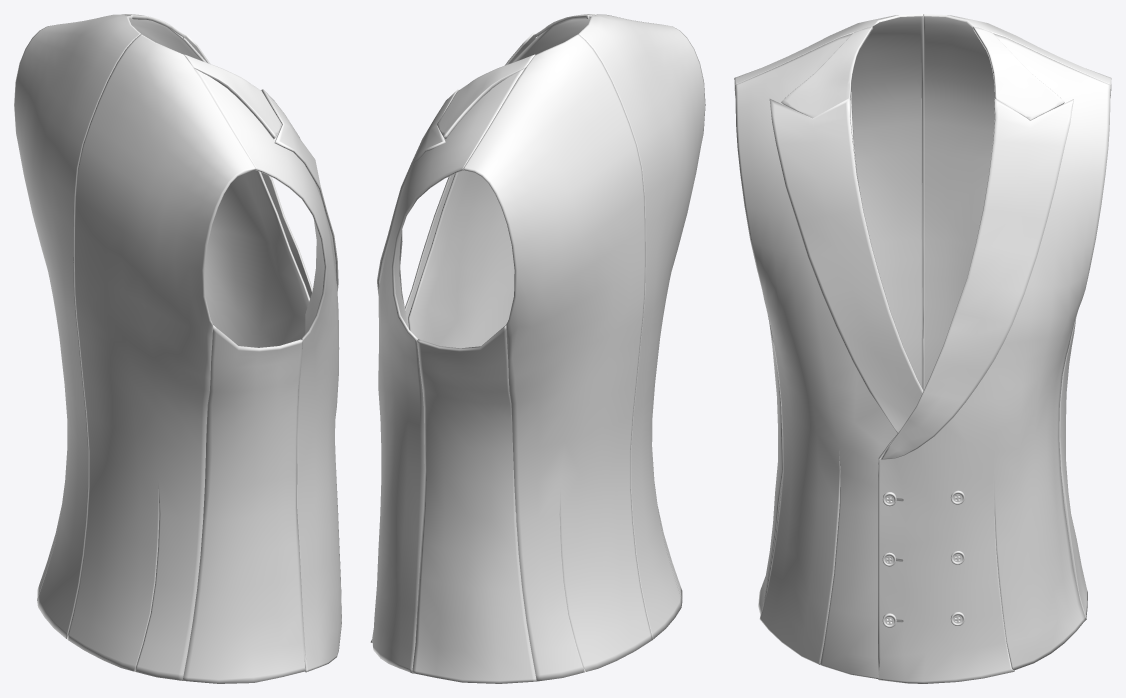
The model's file is double_breasted_6x3_buttons,_peak_lapel_straight_bottom.glb.
The picture shows the model from 3 angles, left to right: view 1: azimuth 30°, elevation 25°; view 2: azimuth 150°, elevation 25°; view 3: azimuth 270°, elevation 25°; orthographic projection. The views are drawn at different scales.
Parts seen in each view (by area): view 1: SM_Vest_Back_outside, SM_Vest_front_Sigle_6*3_Button_Straight_peakLaple; view 2: SM_Vest_Back_outside, SM_Vest_front_Sigle_6*3_Button_Straight_peakLaple; view 3: SM_Vest_front_Sigle_6*3_Button_Straight_peakLaple, SM_Vest_Back_outside, SM_Button_6*3.
Part boxes in pixels (x1,y1,x2,y2): SM_Vest_Back_outside: (14,14,306,683); SM_Vest_front_Sigle_6*3_Button_Straight_peakLaple: (122,14,341,672); SM_Vest_Back_outside: (412,14,705,683); SM_Vest_front_Sigle_6*3_Button_Straight_peakLaple: (370,14,597,673); SM_Vest_front_Sigle_6*3_Button_Straight_peakLaple: (735,26,1110,683); SM_Vest_Back_outside: (734,14,1111,619); SM_Button_6*3: (882,490,964,627).
Size of the model in its own units: 1.56 by 3.65 by 2.12.
Materials: 6 (1 with a texture image).
